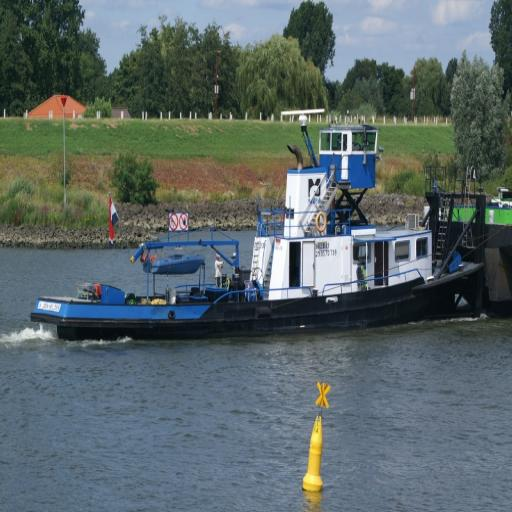tugboat: (25, 102, 491, 357)
